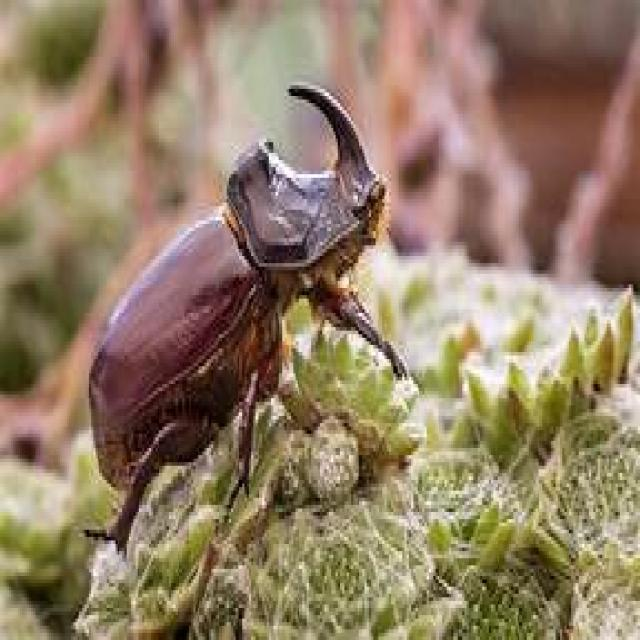Rhino-beetle: (51, 84, 398, 564)
